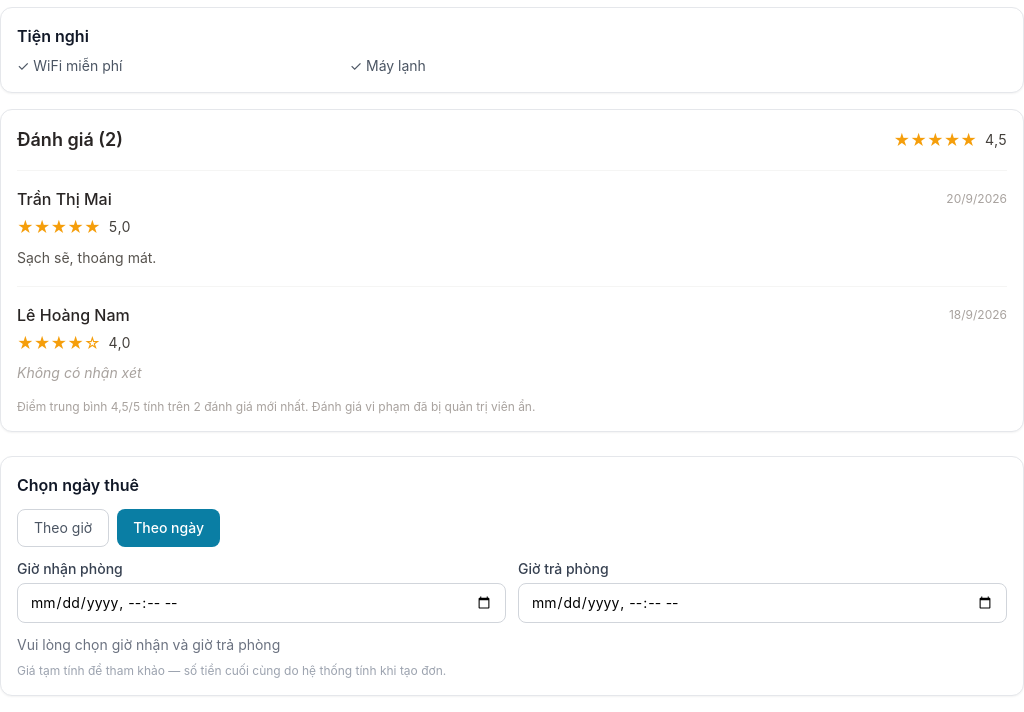
Test: RoomDetail - hien thi › KhungChonNgay_TinhTamTinhDung
(page scrolled)
In the field labelled "Giờ nhận phòng": coordinates (262, 603) [17,583,506,623], type "2026-10-05T14:00"
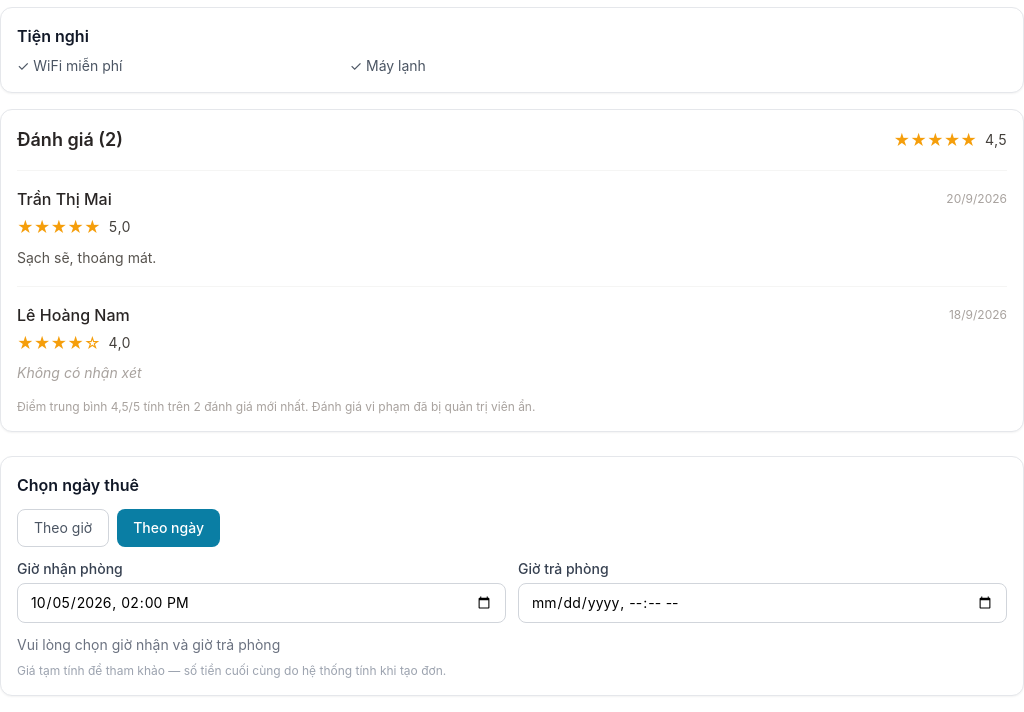
In the field labelled "Giờ trả phòng": coordinates (762, 603) [518,583,1007,623], type "2026-10-07T12:00"
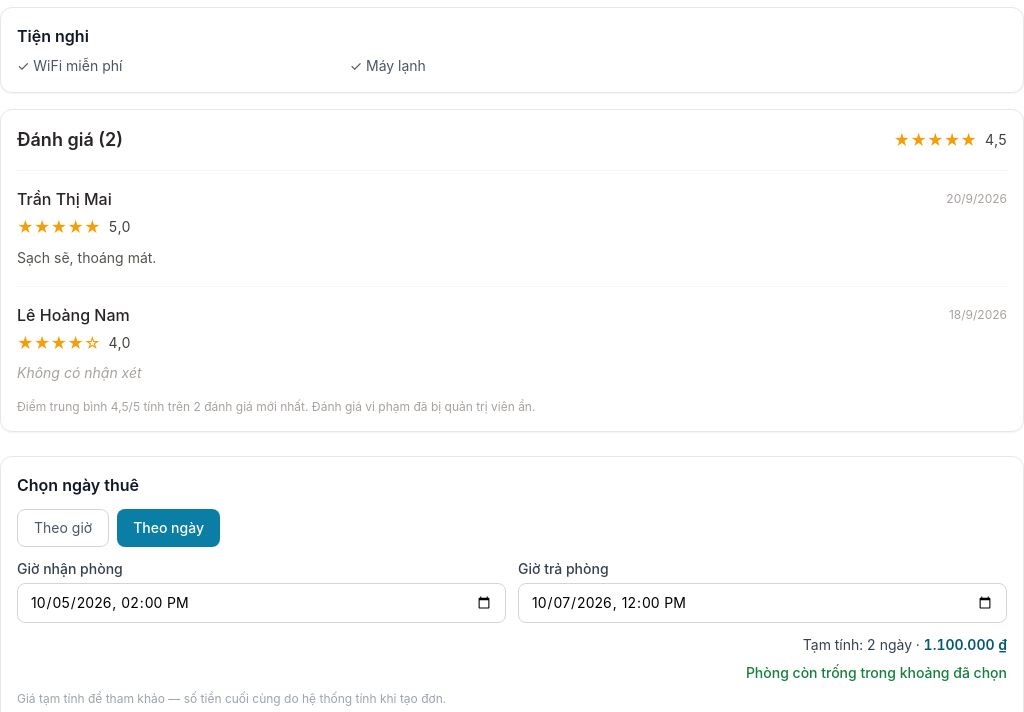
Check: the text "Tạm tính: 2 ngày · 1.100.000 ₫" is shown, box [803,636,1007,653]
Check: the text "1.100.000 ₫" is shown, box [924,636,1007,653]
